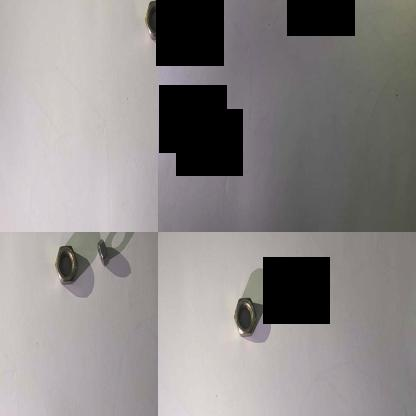NUTS: (226, 283, 261, 355), (50, 236, 79, 294), (92, 232, 123, 278), (272, 284, 300, 326), (139, 0, 158, 47)
